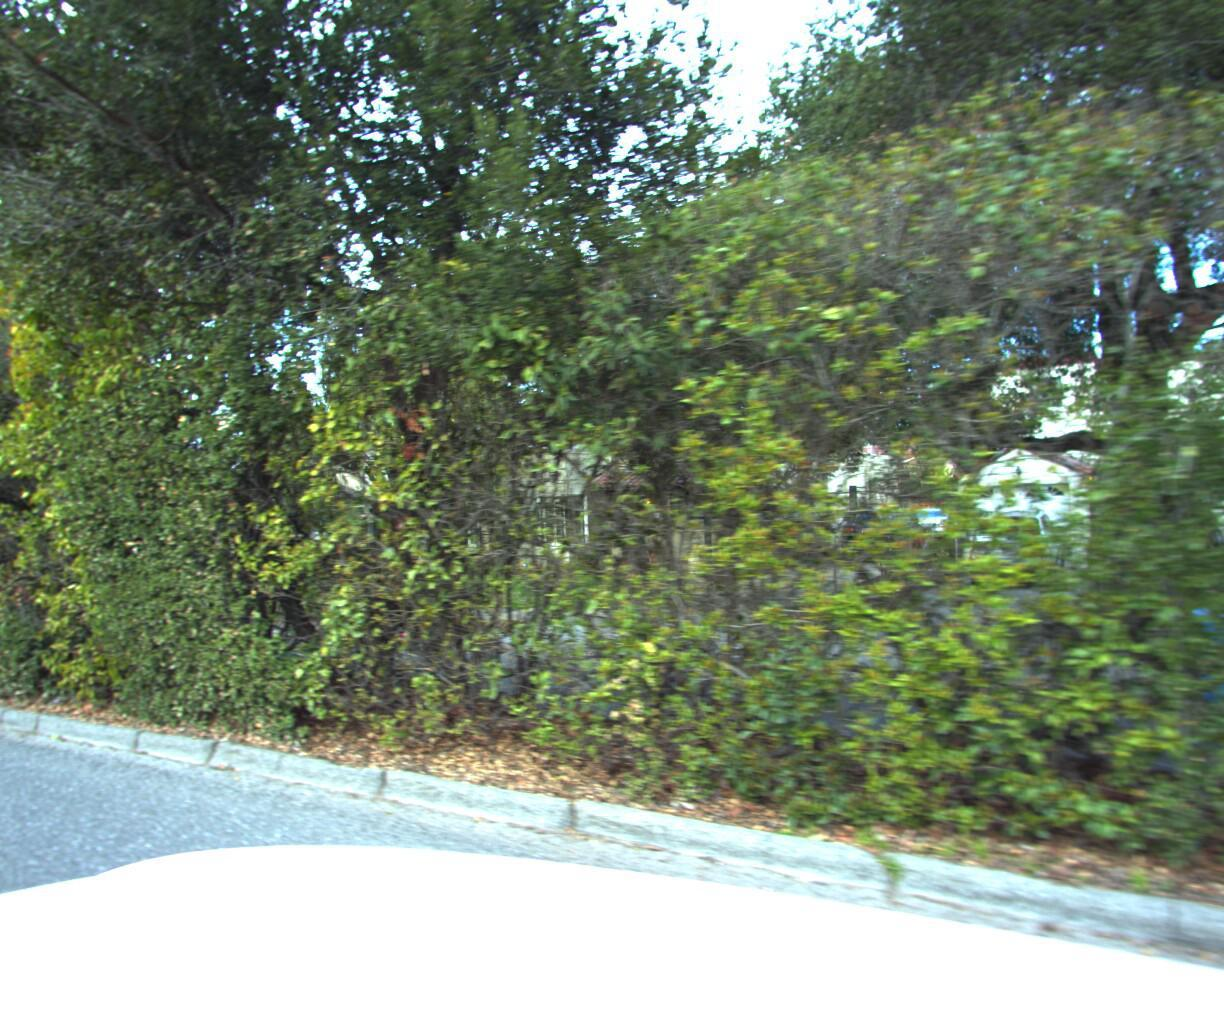car: (963, 500, 1061, 588)
